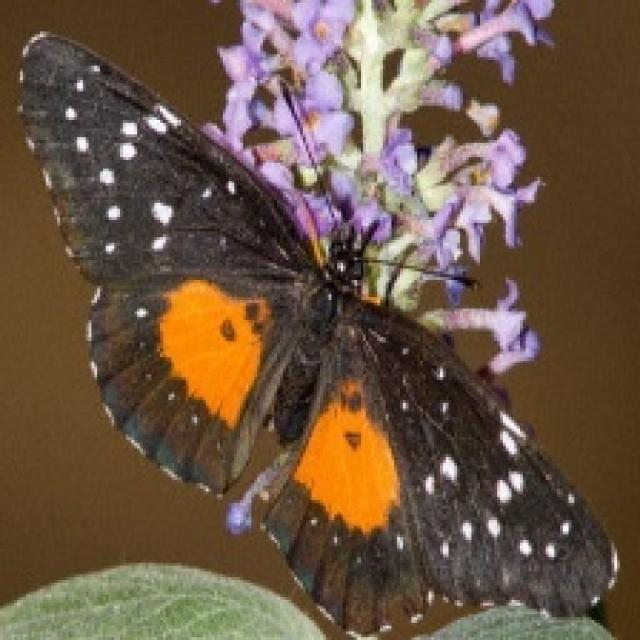butterfly: (14, 26, 620, 637)
